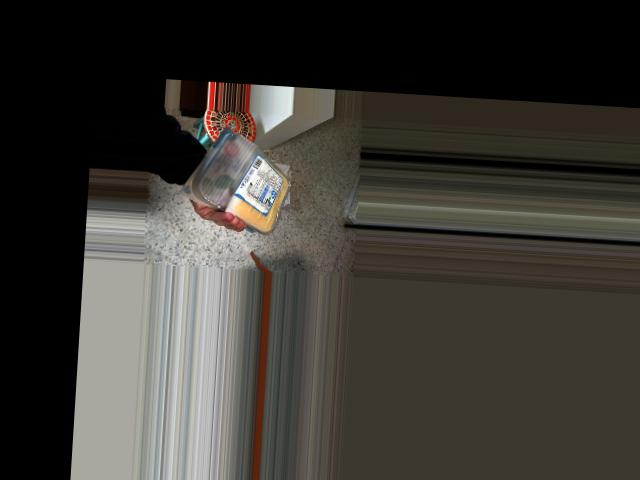cheese: (196, 124, 301, 223)
